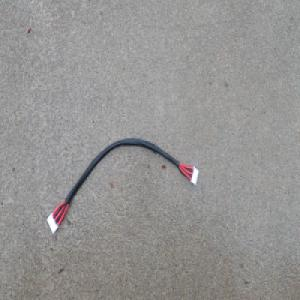Wire: (45, 135, 200, 235)
